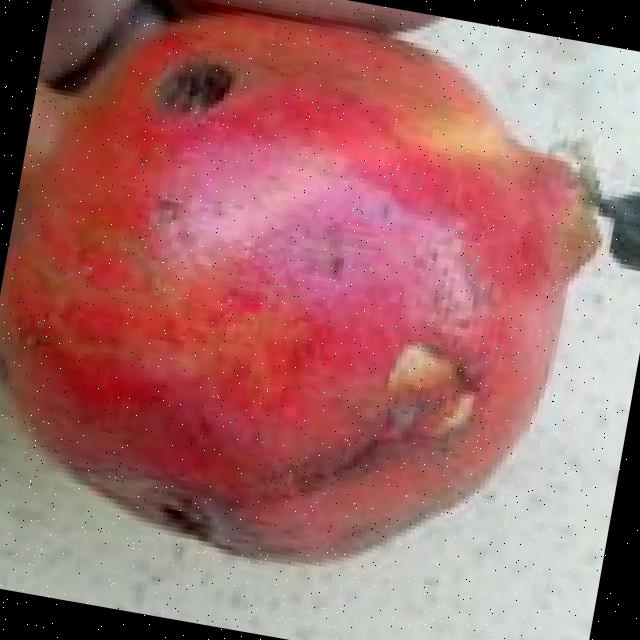Bad_Pomegranate-0-1-day: (0, 9, 640, 570)
